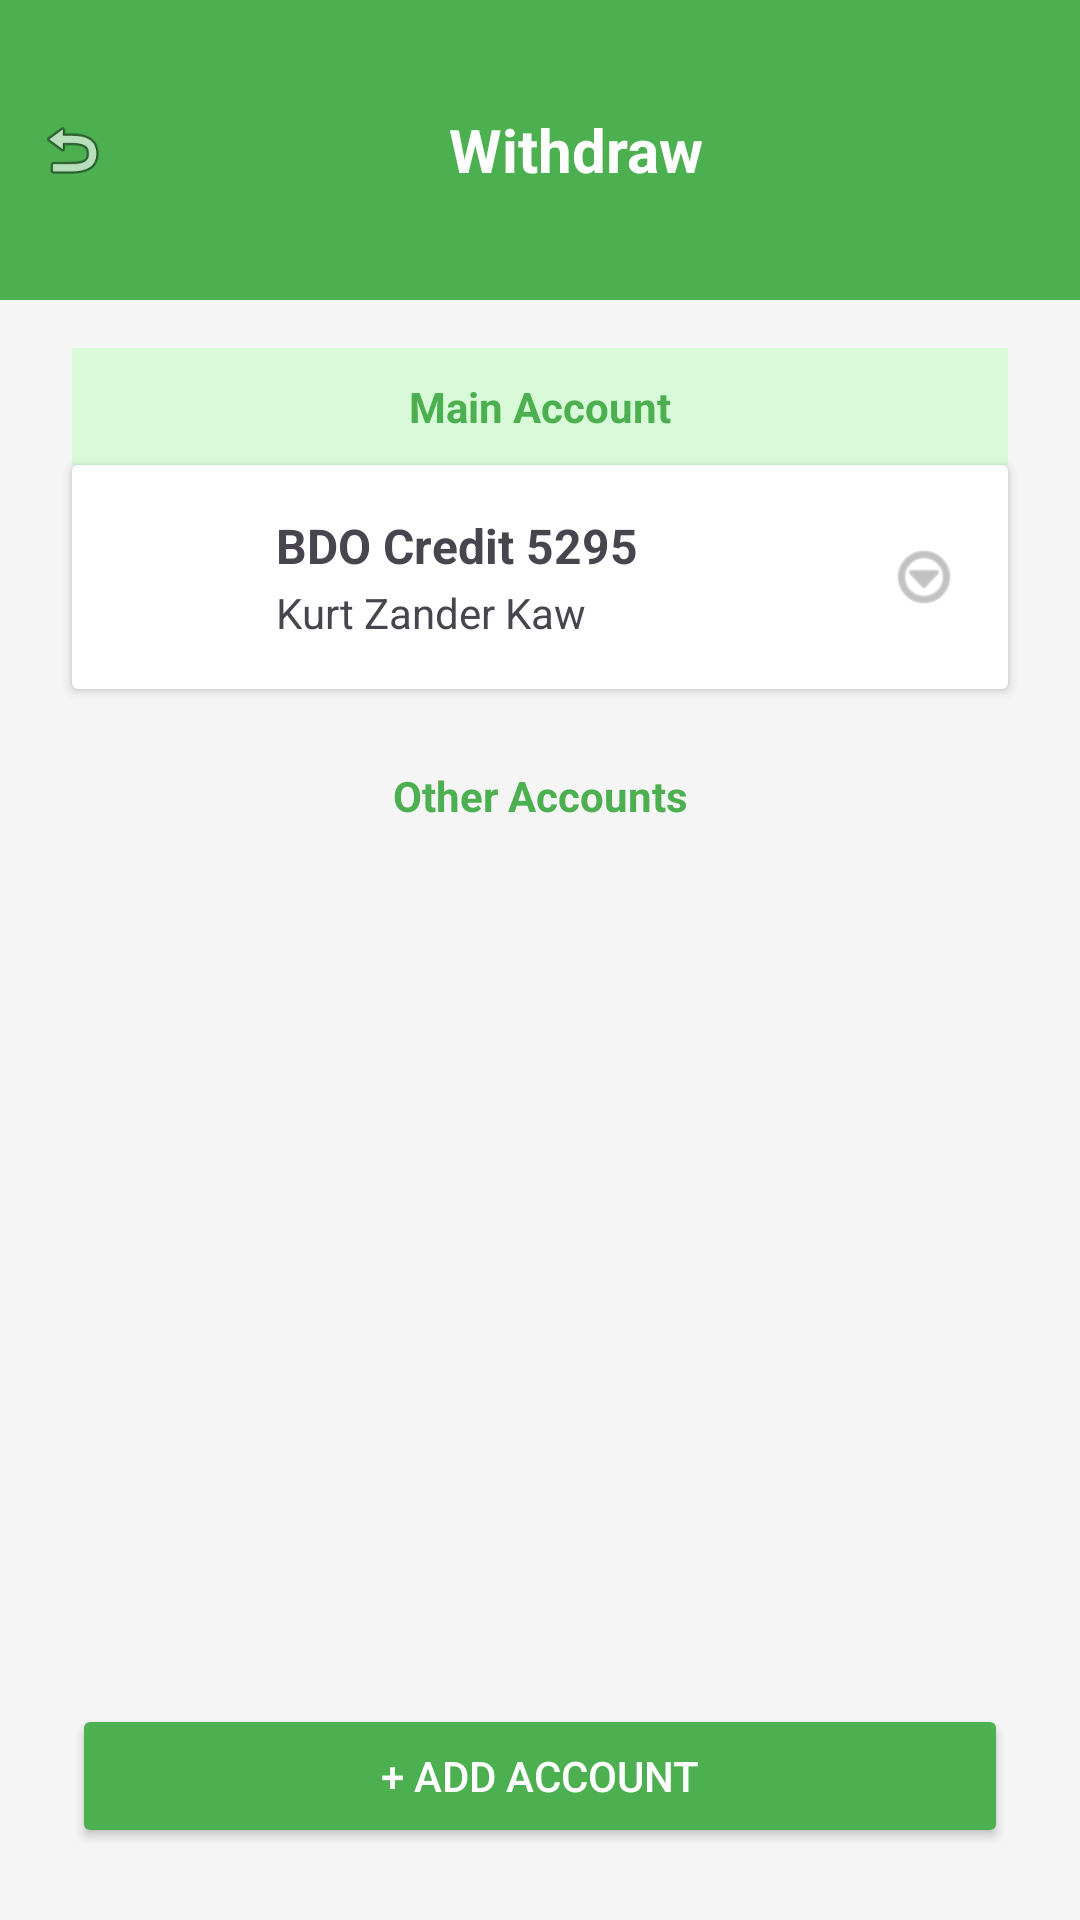

Named icons in this screenshot (1080px x 1920px) and their bounding boxes, (x1, y1, x2, y2):
revert: (47, 127, 99, 174)
